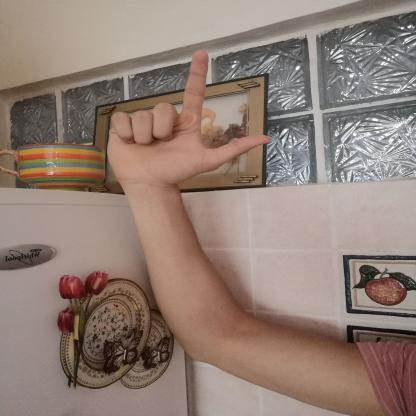LAAM: (93, 42, 282, 198)
